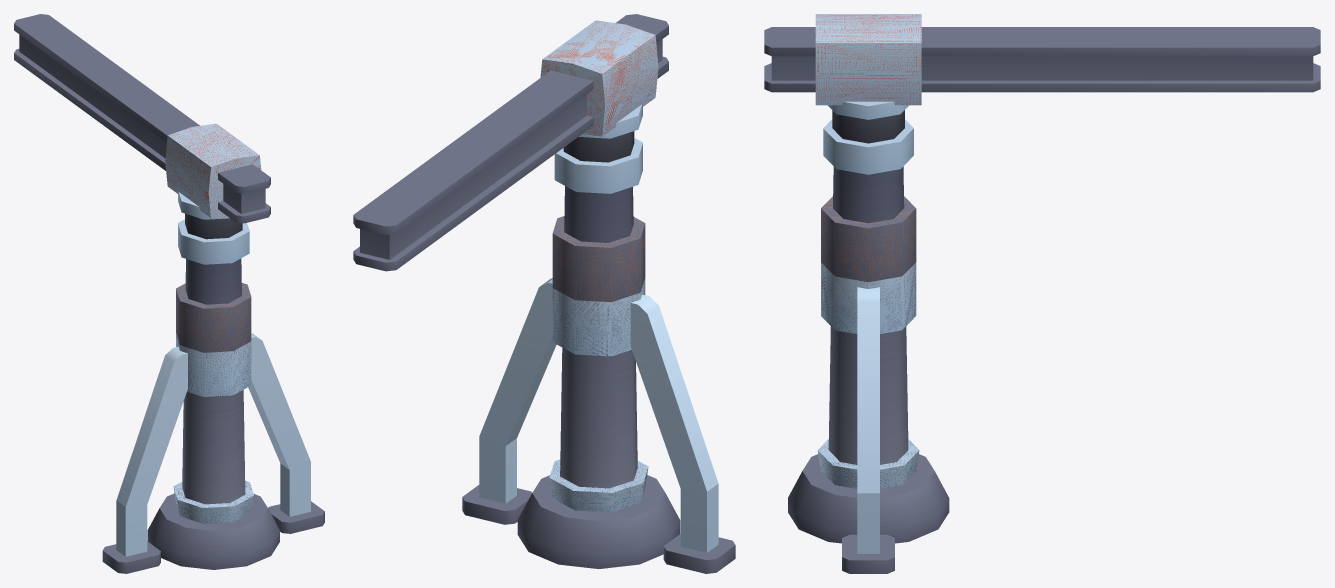
The model's file is crane.glb.
3 renders of one model, left to right at view 1: azimuth 30°, elevation 25°; view 2: azimuth 150°, elevation 25°; view 3: azimuth 270°, elevation 25°, orthographic. The views are drawn at different scales.
Visible parts, largest first — view 1: crane, arm; view 2: crane, arm; view 3: crane, arm.
Boxes of the visible parts, x1,y1,x2,y2 form: crane: (102, 213, 324, 573); arm: (14, 14, 270, 223); crane: (462, 131, 735, 573); arm: (353, 14, 668, 271); crane: (788, 110, 949, 573); arm: (764, 14, 1320, 119).
Size of the model in its own units: 1.93 by 3.55 by 3.68.
1 material, 1 textured.
